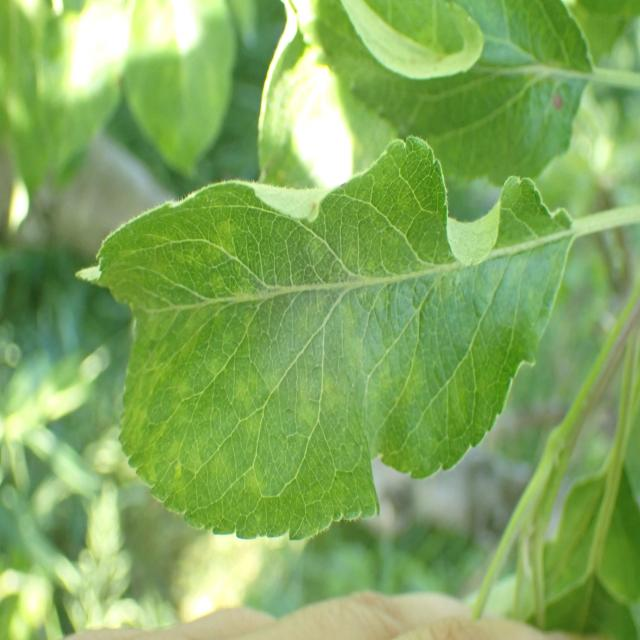scab: (122, 223, 486, 506)
